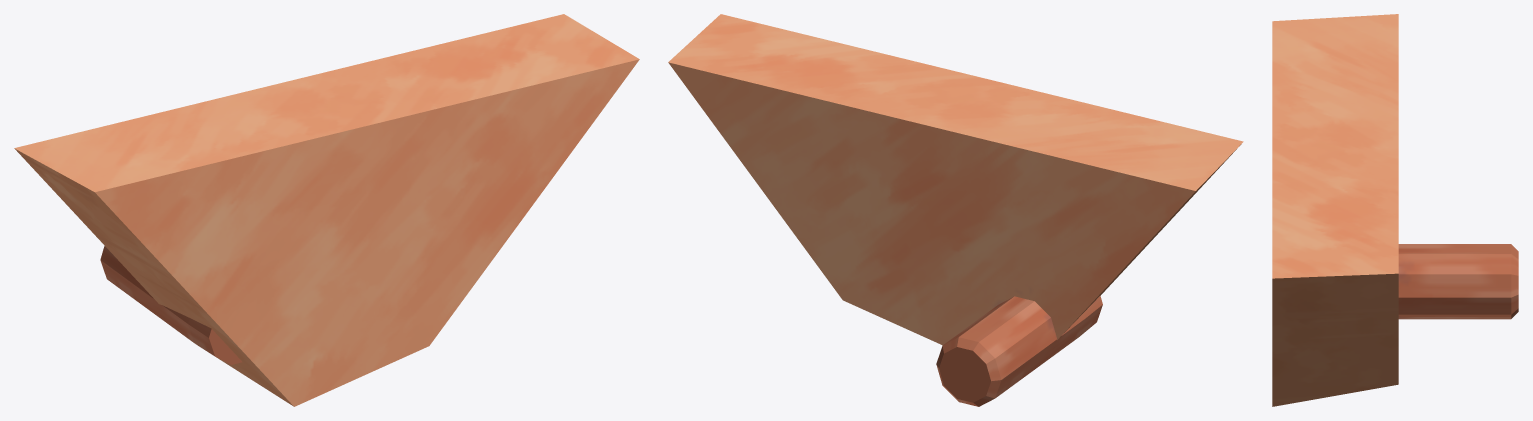
File: wall_upper_s00.fbx
3 renders of one model, left to right at view 1: azimuth 30°, elevation 25°; view 2: azimuth 150°, elevation 25°; view 3: azimuth 270°, elevation 25°, orthographic. The views are drawn at different scales.
Parts seen in each view (by area): view 1: wall_upper_s00; view 2: wall_upper_s00; view 3: wall_upper_s00.
Part boxes in pixels (<box>): wall_upper_s00: <box>14,14,639,406</box>; wall_upper_s00: <box>668,14,1243,406</box>; wall_upper_s00: <box>1272,14,1518,406</box>.
Size of the model in its own units: 4.95 by 2.22 by 1.95.
